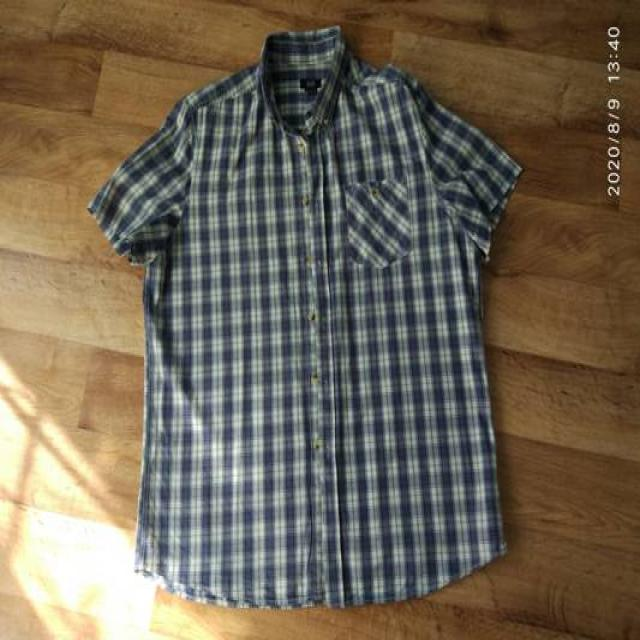Clothes -Biodegradable-: (90, 17, 518, 608)
